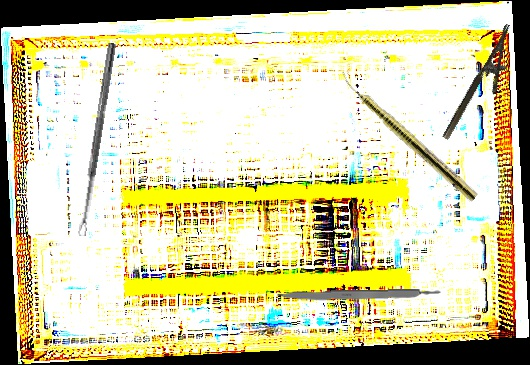Handpiece: (333, 69, 481, 203)
Needle Holder: (441, 23, 528, 149)
Scalpel Handle: (275, 288, 444, 303)
Surgical Spoon: (76, 42, 117, 237)
